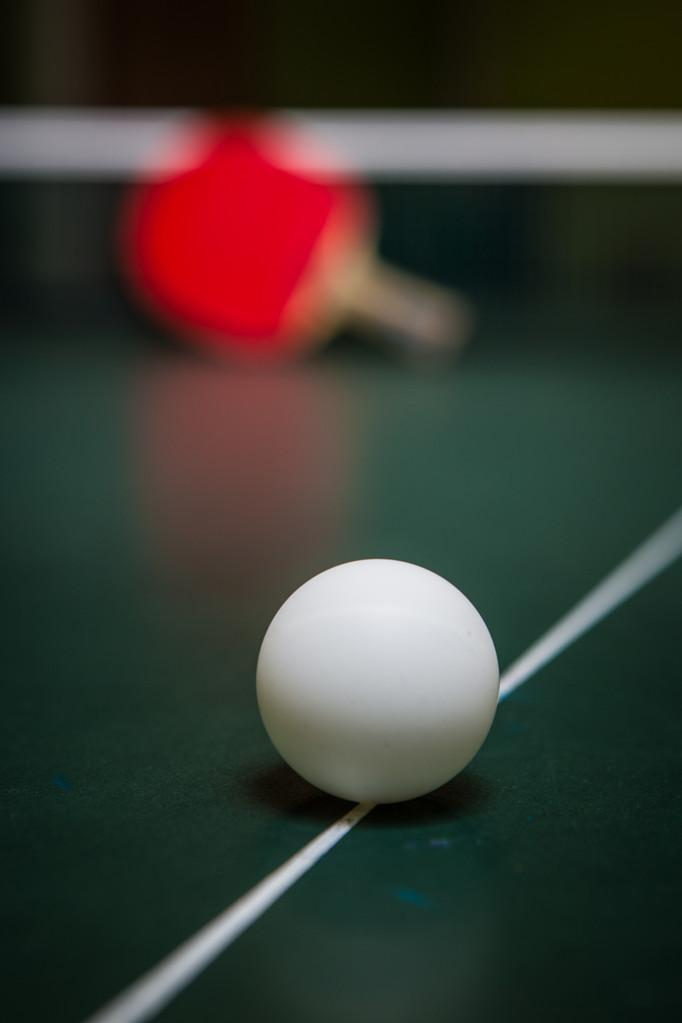ball: (251, 552, 504, 805)
